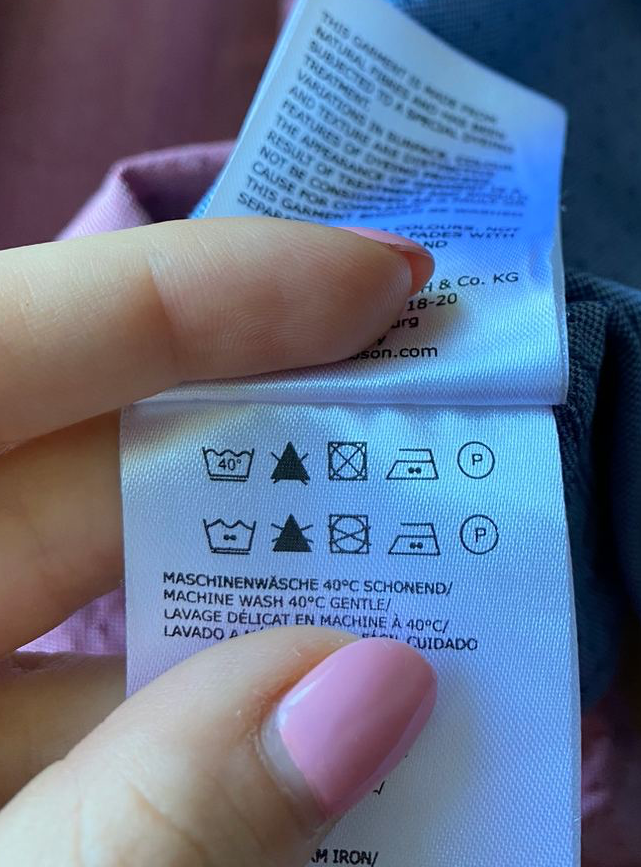do_not_bleach: (265, 436, 316, 486), (268, 511, 321, 558)
do_not_tumble_drying: (324, 436, 372, 485), (327, 510, 374, 557)
dry_clean_tetrachloroethylene_pce_only: (456, 512, 504, 556), (454, 439, 497, 483)
ironing_at_med_temp: (385, 517, 444, 561), (382, 444, 443, 485)
wash_at_or_below_40_mild_fine_wash: (196, 513, 261, 559), (200, 443, 260, 486)
